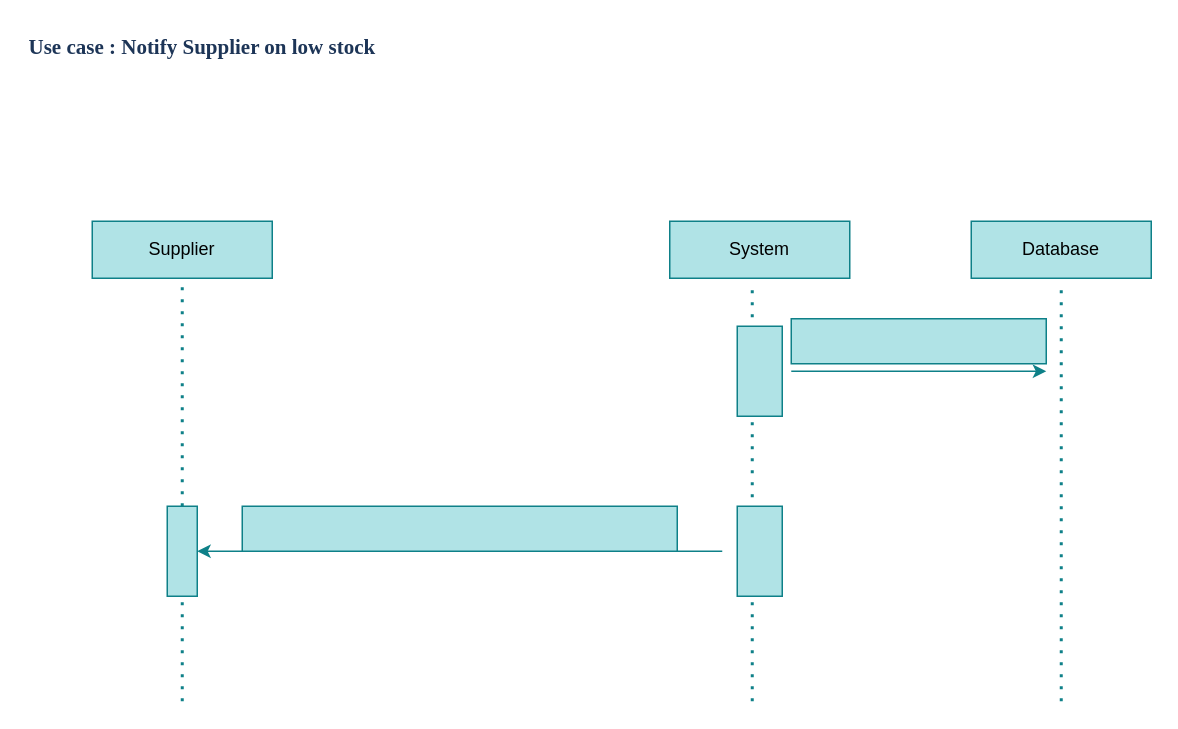
This 1178x729 diagram has some shape labels left out. The centre of each missing label's shape, as x and y in pixels:
"continuously retrieve the quantity of the stock" goes at (918,340).
"Send low stock Notifiction to supplier when quantity below threshold" goes at (459,528).
